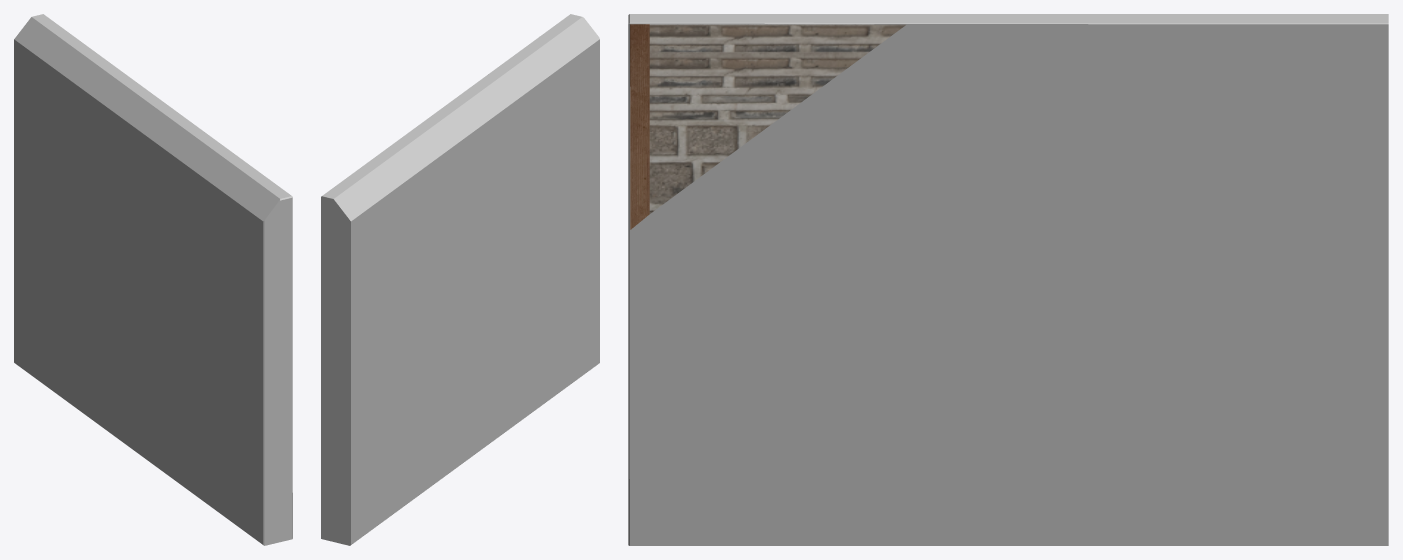
File: SM_HBJ_HG_StoneWallA.fbx
3 renders of one model, left to right at view 1: azimuth 30°, elevation 25°; view 2: azimuth 150°, elevation 25°; view 3: azimuth 270°, elevation 25°, orthographic. The views are drawn at different scales.
Visible parts, largest first — view 1: SM_HBJ_HG_StoneWallA_ConvexHulls; view 2: SM_HBJ_HG_StoneWallA_ConvexHulls; view 3: SM_HBJ_HG_StoneWallA_ConvexHulls, SM_HBJ_HG_StoneWallA.
Part boxes in pixels (bbox=[...]): SM_HBJ_HG_StoneWallA_ConvexHulls: bbox=[14, 14, 292, 545]; SM_HBJ_HG_StoneWallA_ConvexHulls: bbox=[321, 14, 599, 545]; SM_HBJ_HG_StoneWallA_ConvexHulls: bbox=[628, 14, 1388, 545]; SM_HBJ_HG_StoneWallA: bbox=[630, 24, 905, 229].
Bounding box in the file's own units: 16.99 × 245 × 186.
2 materials, 1 textured.
